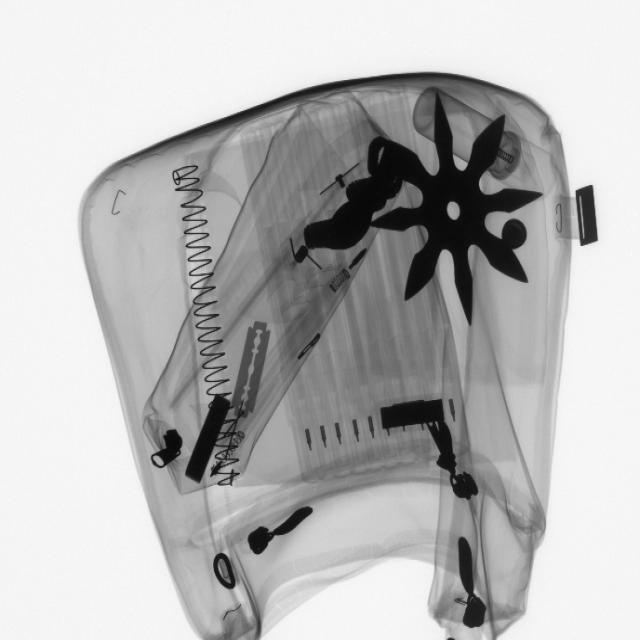BLADE: (228, 319, 274, 425)
SHURIKEN: (366, 92, 546, 328)
